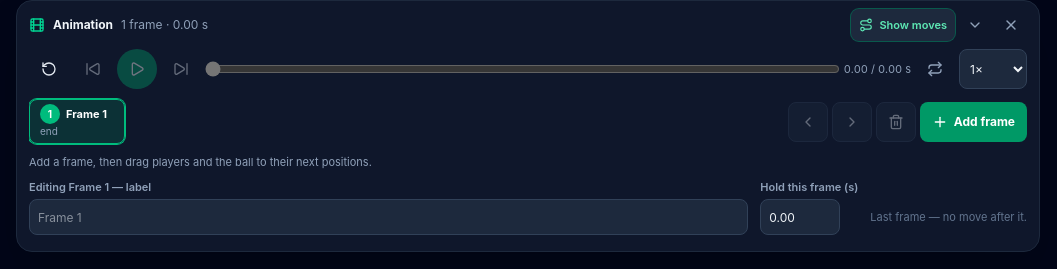
Test: FrameTimeline › labels the overlay toggle in coaching terms with frame-aware hints
Expected: the text "their next positions" is shown, [29,155,372,169]
Click the button "Add frame": (973, 122) [920,102,1027,142]
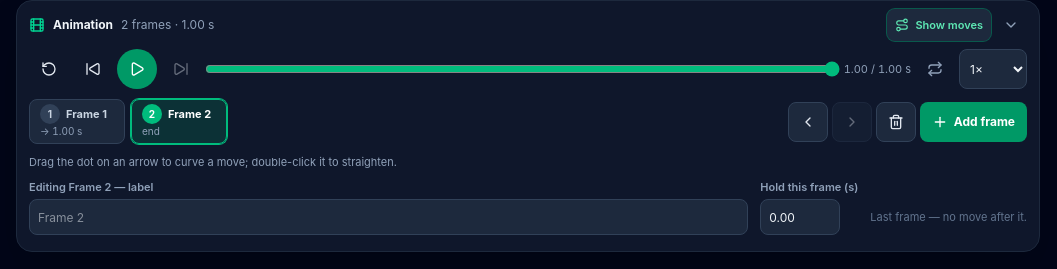
Now the text "Drag the dot on an arrow" is shown, box [29,155,397,169]
Click the button "1 Frame 1 → 1.00 s": (77, 122) [29,99,125,144]
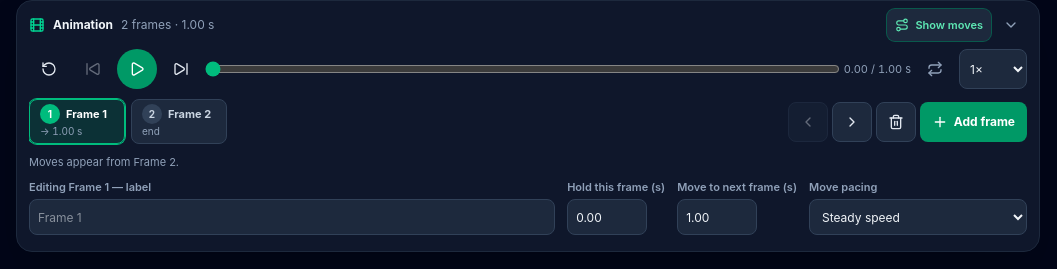
Now the text "Moves appear from Frame 2." is shown, box [29,155,179,169]
Click the button "Show moves": (939, 25) [887,9,991,41]
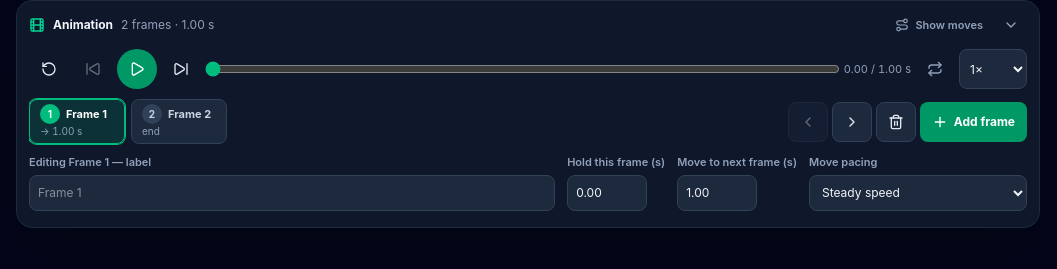
Now the text "Moves appear from Frame 2" is gone
